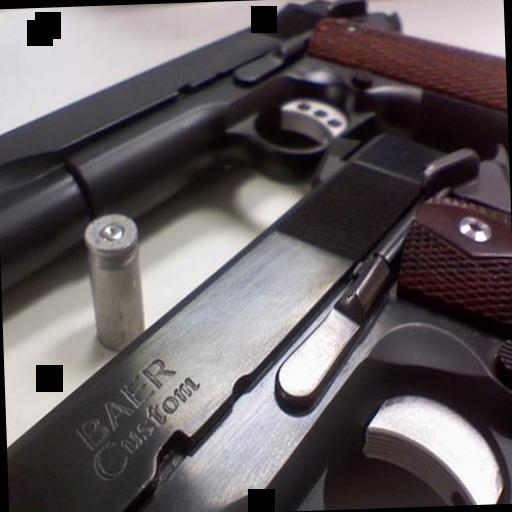Handgun: (0, 123, 512, 512), (0, 0, 512, 293)
